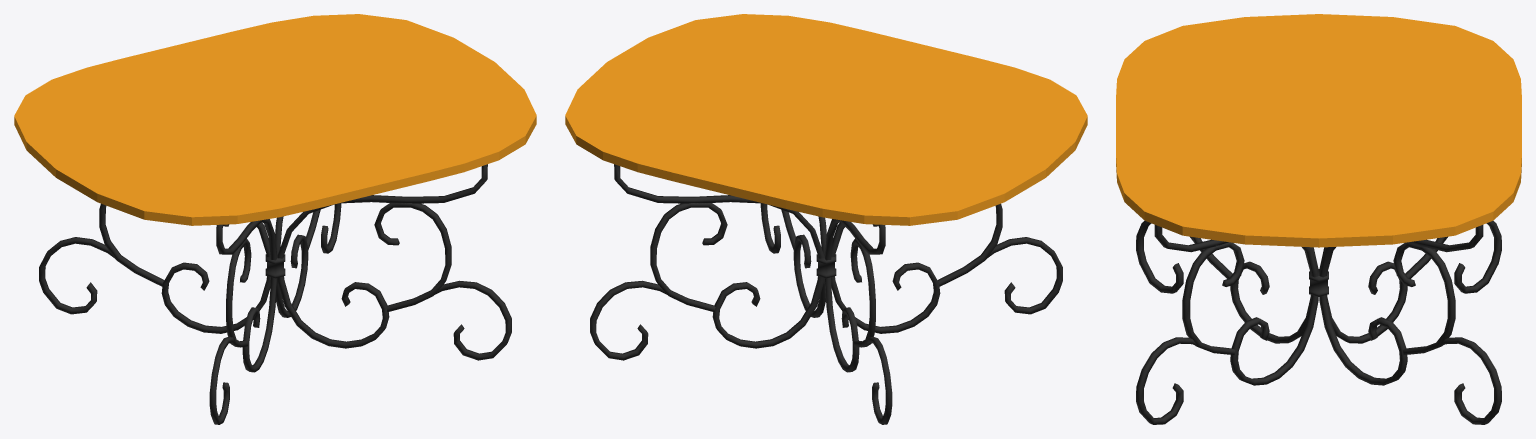
The model's file is Table_2_LP.fbx.
3 renders of one model, left to right at view 1: azimuth 30°, elevation 25°; view 2: azimuth 150°, elevation 25°; view 3: azimuth 270°, elevation 25°, orthographic. The views are drawn at different scales.
Visible parts, largest first — view 1: Plane.001, BézierCurve.010; view 2: Plane.001, BézierCurve.010; view 3: Plane.001, BézierCurve.010, Cylinder.007.
Boxes of the visible parts, x1,y1,x2,y2 form: Plane.001: (14, 14, 536, 225); BézierCurve.010: (39, 164, 511, 424); Plane.001: (565, 14, 1087, 225); BézierCurve.010: (590, 164, 1062, 424); Plane.001: (1116, 14, 1521, 247); BézierCurve.010: (1136, 221, 1501, 424); Cylinder.007: (1309, 269, 1328, 296).
Size of the model in its own units: 133 by 64.88 by 102.
